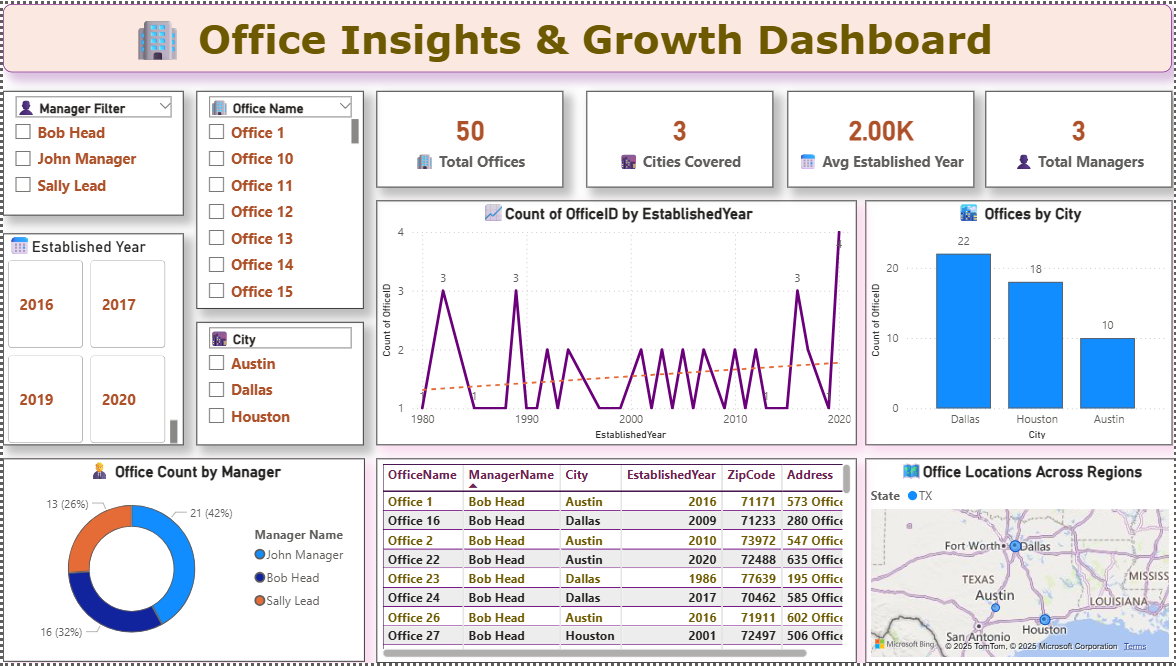

What the dashboard file says about the page in this screenshot:
{"tool":"powerbi","page":{"name":"Office Insights","canvas":[1280,720],"ordinal":6},"visuals":[{"type":"map","title":"🗺️Office Locations Across Regions ","fields":{"Category":["Offices.City"],"Series":["Offices.State"],"Size":["CountNonNull(Offices.OfficeID)"]},"box":[942.4,497.1,338.4,223.5],"z":0},{"type":"advancedSlicerVisual","title":"📅Established Year","fields":{"Values":["Offices.EstablishedYear"]},"box":[0,251,197.5,231.5],"z":1000},{"type":"slicer","fields":{"Values":["Offices.ManagerName"]},"box":[0,95.5,197.5,136],"z":2000},{"type":"slicer","fields":{"Values":["Offices.City"]},"box":[212.1,348.1,183,134.4],"z":3000},{"type":"textbox","box":[0,0,1277.6,74.5],"z":4000},{"type":"columnChart","title":"🏙️ Offices by City","fields":{"Category":["Offices.City"],"Y":["CountNonNull(Offices.OfficeID)"]},"box":[942.4,215.4,335.2,267.2],"z":5000},{"type":"donutChart","title":"🧑💼 Office Count by Manager","fields":{"Category":["Offices.ManagerName"],"Y":["CountNonNull(Offices.OfficeID)"]},"box":[0,497.1,395.1,221.8],"z":6000},{"type":"lineChart","title":"📈Count of OfficeID by EstablishedYear","fields":{"Category":["Offices.EstablishedYear"],"Y":["CountNonNull(Offices.OfficeID)"]},"box":[408,215.4,524.6,267.2],"z":7000},{"type":"card","fields":{"Values":["CountNonNull(Offices.OfficeID)"]},"box":[408,95.5,204,105.2],"z":8000},{"type":"card","fields":{"Values":["Count(Offices.City)"]},"box":[638,95.5,204,105.2],"z":9000},{"type":"card","fields":{"Values":["Avg(Offices.EstablishedYear)"]},"box":[858.2,95.5,204,105.2],"z":10000},{"type":"tableEx","fields":{"Values":["Offices.OfficeName","Offices.ManagerName","Offices.City","Offices.EstablishedYear","Offices.ZipCode","Offices.Address"]},"box":[408,497.1,524.6,223.5],"z":11000},{"type":"slicer","fields":{"Values":["Offices.OfficeName"]},"box":[212.1,95.5,183,238],"z":12000},{"type":"card","fields":{"Values":["Count(Offices.ManagerName)"]},"box":[1073.5,95.5,204,105.2],"z":13000}]}

Visuals, with their boxes in screenshot pixels (x1, y1, x2, y2), scaled from the page's 1280x720 canvas onto the 1176x666 screenshot:
"🗺️Office Locations Across Regions " map: (x1=866, y1=460, x2=1175, y2=665)
"📅Established Year" advancedSlicerVisual: (x1=0, y1=232, x2=181, y2=446)
slicer - Offices.ManagerName: (x1=0, y1=88, x2=181, y2=214)
slicer - Offices.City: (x1=195, y1=322, x2=363, y2=446)
textbox: (x1=0, y1=0, x2=1174, y2=69)
"🏙️ Offices by City" columnChart: (x1=866, y1=199, x2=1174, y2=446)
"🧑💼 Office Count by Manager" donutChart: (x1=0, y1=460, x2=363, y2=665)
"📈Count of OfficeID by EstablishedYear" lineChart: (x1=375, y1=199, x2=857, y2=446)
card - CountNonNull(Offices.OfficeID): (x1=375, y1=88, x2=562, y2=186)
card - Count(Offices.City): (x1=586, y1=88, x2=774, y2=186)
card - Avg(Offices.EstablishedYear): (x1=788, y1=88, x2=976, y2=186)
tableEx - Offices.OfficeName x Offices.ManagerName: (x1=375, y1=460, x2=857, y2=665)
slicer - Offices.OfficeName: (x1=195, y1=88, x2=363, y2=308)
card - Count(Offices.ManagerName): (x1=986, y1=88, x2=1174, y2=186)
